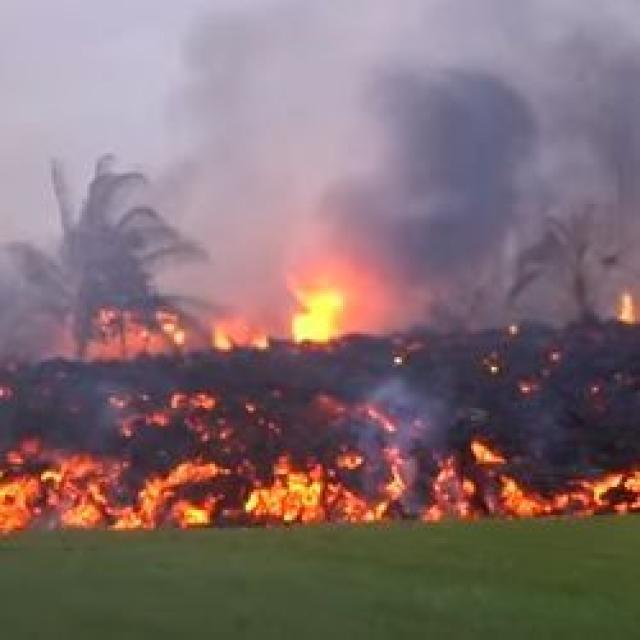Fire: (17, 416, 640, 536), (302, 306, 360, 364)
Smoke: (10, 38, 542, 320)
